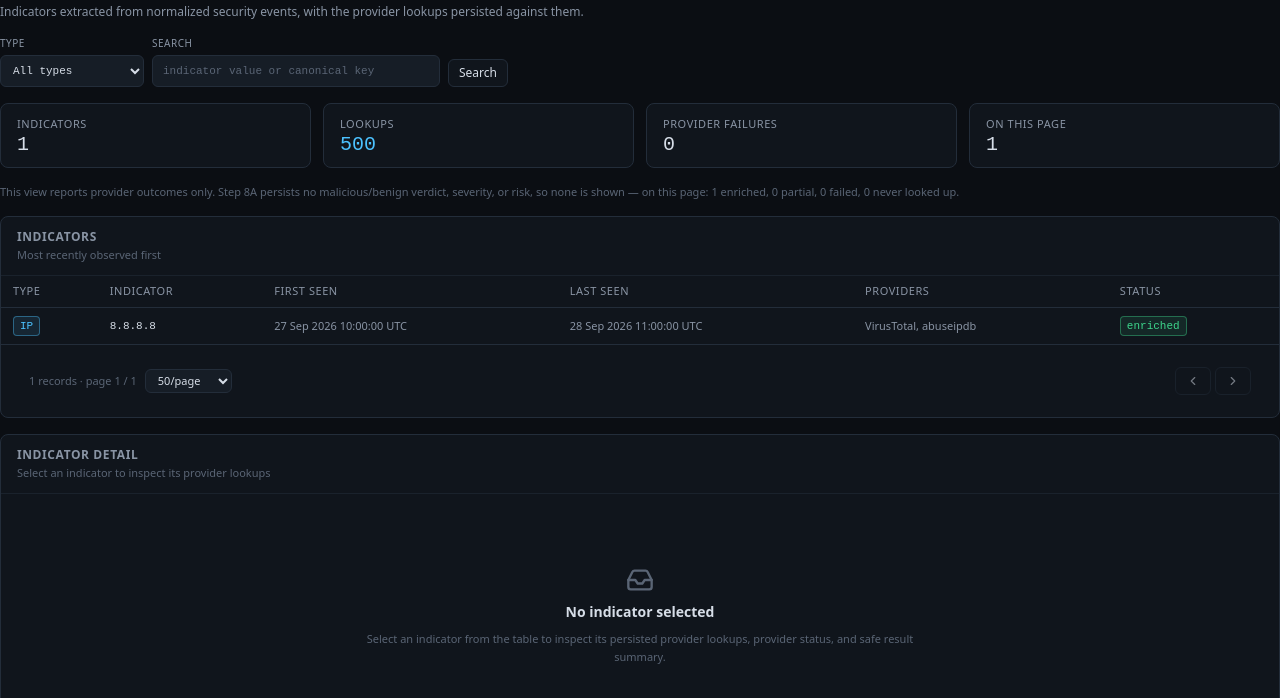
Scenario: ThreatIntelPage — Step 8A read surface › discloses truncated lookup history rather than hiding it
What coordinates should you click on to do the following:
click the row with test id "ti-indicator-row"
I would click on:
 (640, 326)
Its box is [1,308,1279,344].
(page scrolled)
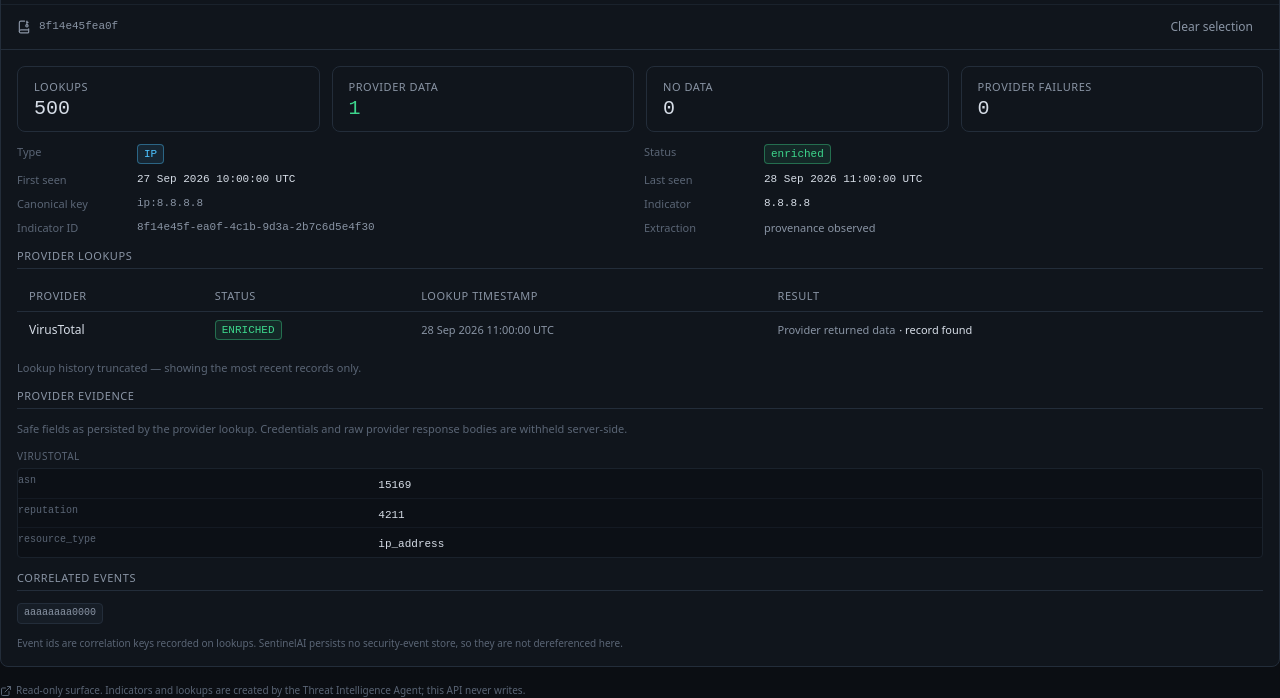
Result: the text with test id "ti-lookups-truncated" is shown at [17,360,361,375]
